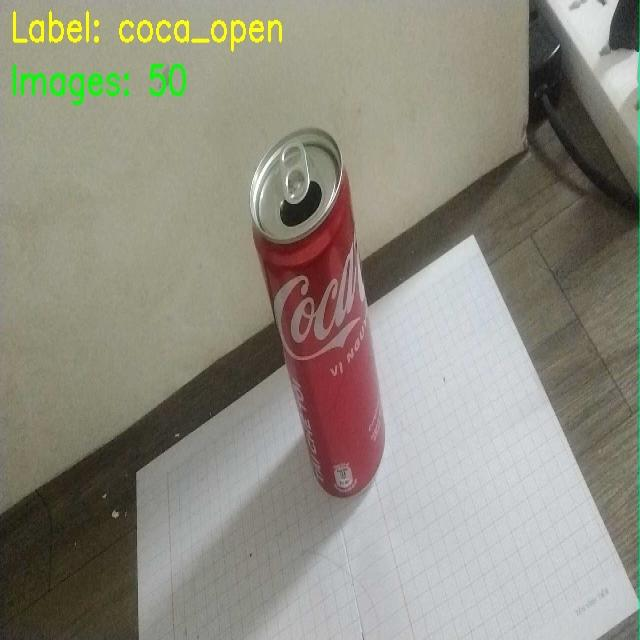Coca_open: (244, 128, 400, 502)
